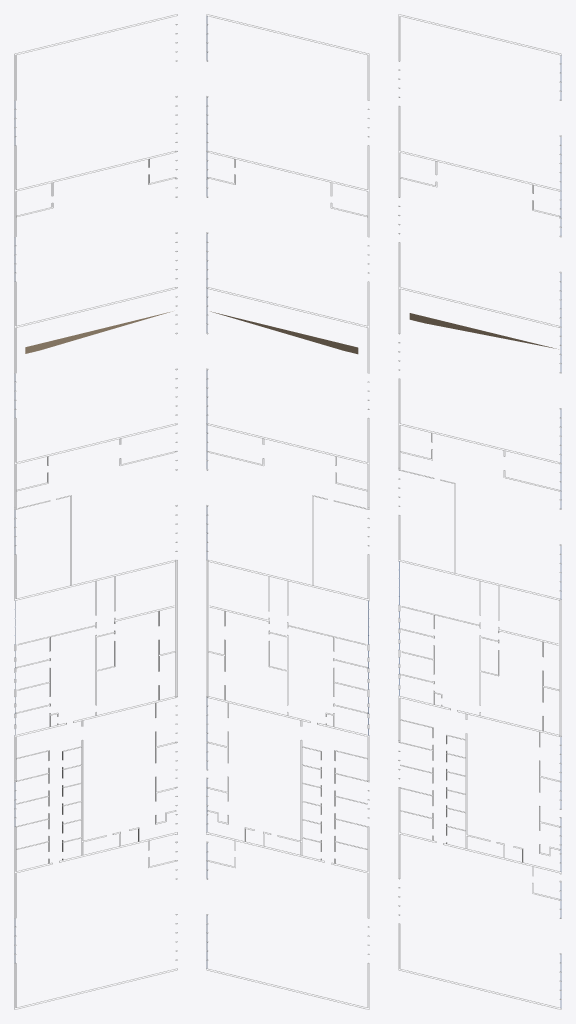
File: building008-a_floor2.glb
3 views of the same model, side by side, from view 1: azimuth 30°, elevation 25°; view 2: azimuth 150°, elevation 25°; view 3: azimuth 330°, elevation 25° (orthographic).
Parts seen in each view (by area): view 1: world; view 2: world; view 3: world.
Part boxes in pixels (x1,y1,x2,y2): world: (14,14,177,1009); world: (206,14,369,1009); world: (398,14,561,1009).
Size of the model in its own units: 900 by 5048 by 4.
